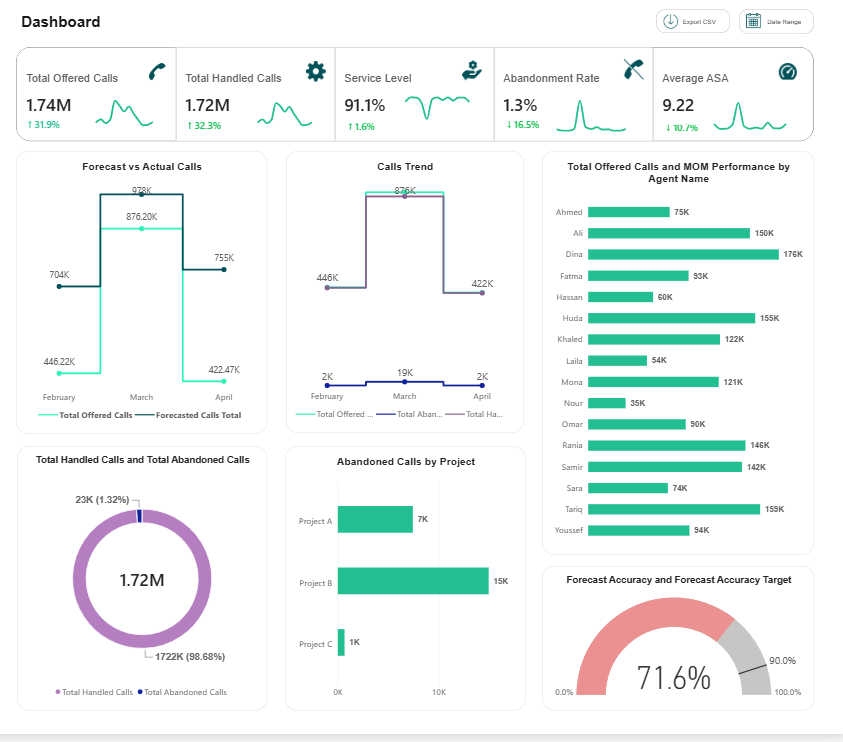

Layout of this report page (visuals, bound fields, positions):
{"tool":"powerbi","page":{"name":"Home","canvas":[1500,1300],"ordinal":1},"visuals":[{"type":"shape","box":[0,71.4,85.7,1228.6],"z":0},{"type":"shape","box":[0,0,1500,71.4],"z":1000},{"type":"image","box":[25.7,11.4,92.9,47.1],"z":2000},{"type":"image","box":[1306.7,12.5,47,46.8],"z":3000},{"type":"actionButton","box":[1357,15.5,90.5,20.5],"z":4000},{"type":"actionButton","box":[1353.5,29.5,68.5,25.5],"z":5000},{"type":"image","box":[1448,25,26,22],"z":6000},{"type":"shape","box":[1337.7,43.1,16.2,15.9],"z":7000},{"type":"image","box":[1248.8,18.8,27.5,35],"z":8000},{"type":"image","box":[1196.2,20,36.4,32.1],"z":9000},{"type":"shape","box":[1260.8,18.8,16,16],"z":10000},{"type":"actionButton","box":[538.9,18.9,461.2,40],"z":11000},{"type":"cardVisual","fields":{"Data":["Sallah Project.Total Offered Calls","Sallah Project.Total Handled Calls","Sallah Project.Service Level %","Sallah Project.Abandonment Rate %","Sallah Project.Average ASA"]},"box":[117.1,154.3,1330,157.1],"z":12000},{"type":"image","box":[332.9,174.3,36.4,40.7],"z":13000},{"type":"image","box":[598.6,174.3,36.4,40.7],"z":14000},{"type":"image","box":[858.6,172.9,36.4,40.7],"z":15000},{"type":"image","box":[1128.6,171.4,36.4,40.7],"z":16000},{"type":"image","box":[1384.3,174.3,36.4,40.7],"z":17000},{"type":"actionButton","box":[100,87.1,182.9,55.7],"z":18000},{"type":"actionButton","box":[14.5,92.7,57.1,50],"z":19000},{"type":"image","box":[22.3,100.9,41.7,33.3],"z":20000},{"type":"actionButton","box":[14.2,182.3,57.5,50],"z":21000},{"type":"image","box":[22.5,190.8,41.7,33.3],"z":22000},{"type":"actionButton","box":[13.6,271.8,57.5,50],"z":23000},{"type":"image","box":[21.2,280,41.7,33.3],"z":24000},{"type":"shape","box":[8.3,437.2,68.9,12.2],"z":25000},{"type":"lineChart","title":"Forecast vs Actual Calls","fields":{"Category":["calendar date.Date.Variation.Date Hierarchy.Month"],"Y":["Sallah Project.Total Offered Calls","Sallah Project.Forecasted Calls Total"]},"box":[117.1,328.6,418.6,471.4],"z":26000},{"type":"lineChart","title":"Calls Trend","fields":{"Category":["calendar date.Date.Variation.Date Hierarchy.Month"],"Y":["Sallah Project.Total Offered Calls","Sallah Project.Total Abandoned Calls","Sallah Project.Total Handled Calls"]},"box":[567.1,328.6,395.7,470],"z":27000},{"type":"donutChart","fields":{"Y":["Sallah Project.Total Handled Calls","Sallah Project.Total Abandoned Calls"]},"box":[118.6,820,417.1,441.4],"z":28000},{"type":"actionButton","box":[14.4,362.2,57.5,50],"z":33000},{"type":"image","box":[22.5,370,41.7,33.3],"z":34000},{"type":"actionButton","box":[15,475,57.5,50],"z":35000},{"type":"actionButton","box":[13.8,548.8,57.5,50],"z":36000},{"type":"image","box":[20,554,44.7,40],"z":37000},{"type":"actionButton","box":[1322.3,91.5,124.6,41.5],"z":38000},{"type":"image","box":[1331.2,98.4,28.2,26.5],"z":39000},{"type":"actionButton","box":[14,622.7,57.5,50],"z":41000},{"type":"image","box":[20.7,628,44.7,40],"z":42000},{"type":"image","box":[22.7,480,44.7,40],"z":45000},{"type":"actionButton","box":[1357.2,99.6,84.4,25.6],"z":46000},{"type":"clusteredBarChart","title":"Abandoned Calls by Project","fields":{"Category":["Sallah Project.Project"],"Y":["Sallah Project.Total Abandoned Calls"]},"box":[565.7,820,401.4,441.4],"z":49000},{"type":"actionButton","box":[1182.9,91.4,123.6,40],"z":50000},{"type":"image","box":[1195,97.9,25.7,28.6],"z":51000},{"type":"actionButton","box":[1214.3,99.3,81.4,25.7],"z":52000},{"type":"shape","box":[0,65.3,1500,12],"z":53000},{"type":"lineChart","title":"Service Level Trend","fields":{"Category":["Sallah Project.Week Number"],"Y":["Sallah Project.Total Offered Calls"]},"box":[216.7,215,168.3,96.7],"z":54000},{"type":"lineChart","title":"Service Level Trend","fields":{"Category":["Sallah Project.Week Number"],"Y":["Sallah Project.Total Handled Calls"]},"box":[486.7,215,163.3,96.7],"z":55000},{"type":"lineChart","title":"Service Level Trend","fields":{"Category":["Sallah Project.Week Number"],"Y":["Sallah Project.Service Level %"]},"box":[731.1,215.6,183.3,95.6],"z":56000},{"type":"lineChart","title":"Service Level Trend","fields":{"Category":["Sallah Project.Week Number"],"Y":["Sallah Project.Total Abandoned Calls"]},"box":[983.3,216.7,193.3,95.6],"z":57000},{"type":"lineChart","title":"Service Level Trend","fields":{"Category":["Sallah Project.Week Number"],"Y":["Sallah Project.Average ASA"]},"box":[1244.4,214.4,200,95.6],"z":58000},{"type":"gauge","fields":{"TargetValue":["Sallah Project.Forecast Accuracy Target"],"Y":["Sallah Project.Forecast Accuracy %"]},"box":[992.9,1020,454.3,241.4],"z":60000},{"type":"card","fields":{"Values":["Sallah Project.Service Level Trend"]},"box":[652.2,265.8,80.9,43.6],"z":61000},{"type":"card","fields":{"Values":["Sallah Project.Abandonment Trend"]},"box":[908.3,263.3,106.7,48.3],"z":62000},{"type":"card","fields":{"Values":["Sallah Project.ASA Trend"]},"box":[1176.7,266.7,100,43.3],"z":63000},{"type":"card","fields":{"Values":["Sallah Project.Offered Calls Trend"]},"box":[118.3,262.5,88.3,45.8],"z":64000},{"type":"card","fields":{"Values":["Sallah Project.Handled Calls Trend"]},"box":[382.5,265,93.8,46.2],"z":65000},{"type":"barChart","title":"Total Offered Calls and MOM Performance by Agent Name","fields":{"Category":["Sallah Project.Agent Name"],"Y":["Sallah Project.Total Offered Calls"]},"box":[992.9,328.6,454.3,672.9],"z":65001}]}

Visuals, with their boxes in screenshot pixels (x1, y1, x2, y2), scaled from the page's 1500x1300 canvas onto the 843x742 screenshot:
shape: box(0, 41, 48, 741)
shape: box(0, 0, 842, 41)
image: box(14, 7, 67, 33)
image: box(734, 7, 761, 34)
actionButton: box(763, 9, 813, 21)
actionButton: box(761, 17, 799, 31)
image: box(814, 14, 828, 27)
shape: box(752, 25, 761, 34)
image: box(702, 11, 717, 31)
image: box(672, 11, 693, 30)
shape: box(709, 11, 718, 20)
actionButton: box(303, 11, 562, 34)
cardVisual - Sallah Project.Total Offered Calls x Sallah Project.Total Handled Calls: box(66, 88, 813, 178)
image: box(187, 99, 208, 123)
image: box(336, 99, 357, 123)
image: box(483, 99, 503, 122)
image: box(634, 98, 655, 121)
image: box(778, 99, 798, 123)
actionButton: box(56, 50, 159, 82)
actionButton: box(8, 53, 40, 81)
image: box(13, 58, 36, 77)
actionButton: box(8, 104, 40, 133)
image: box(13, 109, 36, 128)
actionButton: box(8, 155, 40, 184)
image: box(12, 160, 35, 179)
shape: box(5, 250, 43, 257)
"Forecast vs Actual Calls" lineChart: box(66, 188, 301, 457)
"Calls Trend" lineChart: box(319, 188, 541, 456)
donutChart - Sallah Project.Total Handled Calls x Sallah Project.Total Abandoned Calls: box(67, 468, 301, 720)
actionButton: box(8, 207, 40, 235)
image: box(13, 211, 36, 230)
actionButton: box(8, 271, 41, 300)
actionButton: box(8, 313, 40, 342)
image: box(11, 316, 36, 339)
actionButton: box(743, 52, 813, 76)
image: box(748, 56, 764, 71)
actionButton: box(8, 355, 40, 384)
image: box(12, 358, 37, 381)
image: box(13, 274, 38, 297)
actionButton: box(763, 57, 810, 71)
"Abandoned Calls by Project" clusteredBarChart: box(318, 468, 544, 720)
actionButton: box(665, 52, 734, 75)
image: box(672, 56, 686, 72)
actionButton: box(682, 57, 728, 71)
shape: box(0, 37, 842, 44)
"Service Level Trend" lineChart: box(122, 123, 216, 178)
"Service Level Trend" lineChart: box(274, 123, 365, 178)
"Service Level Trend" lineChart: box(411, 123, 514, 178)
"Service Level Trend" lineChart: box(553, 124, 661, 178)
"Service Level Trend" lineChart: box(699, 122, 812, 177)
gauge - Sallah Project.Forecast Accuracy Target x Sallah Project.Forecast Accuracy %: box(558, 582, 813, 720)
card - Sallah Project.Service Level Trend: box(367, 152, 412, 177)
card - Sallah Project.Abandonment Trend: box(510, 150, 570, 178)
card - Sallah Project.ASA Trend: box(661, 152, 718, 177)
card - Sallah Project.Offered Calls Trend: box(66, 150, 116, 176)
card - Sallah Project.Handled Calls Trend: box(215, 151, 268, 178)
"Total Offered Calls and MOM Performance by Agent Name" barChart: box(558, 188, 813, 572)
